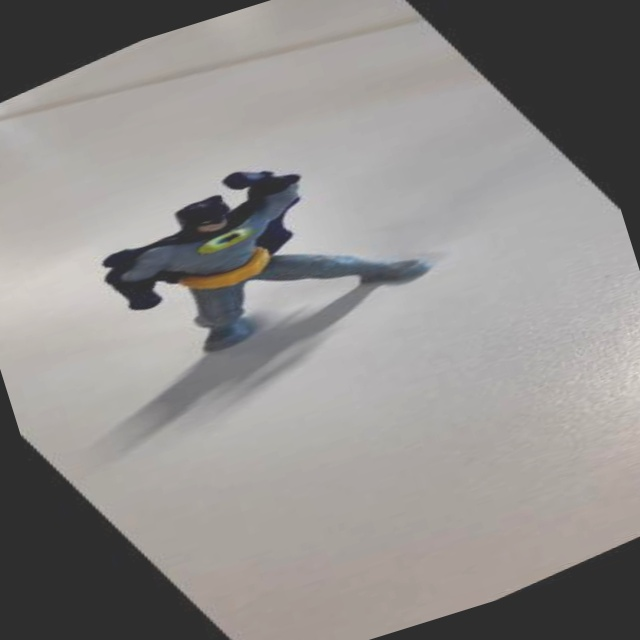Batman: (37, 110, 471, 422)
